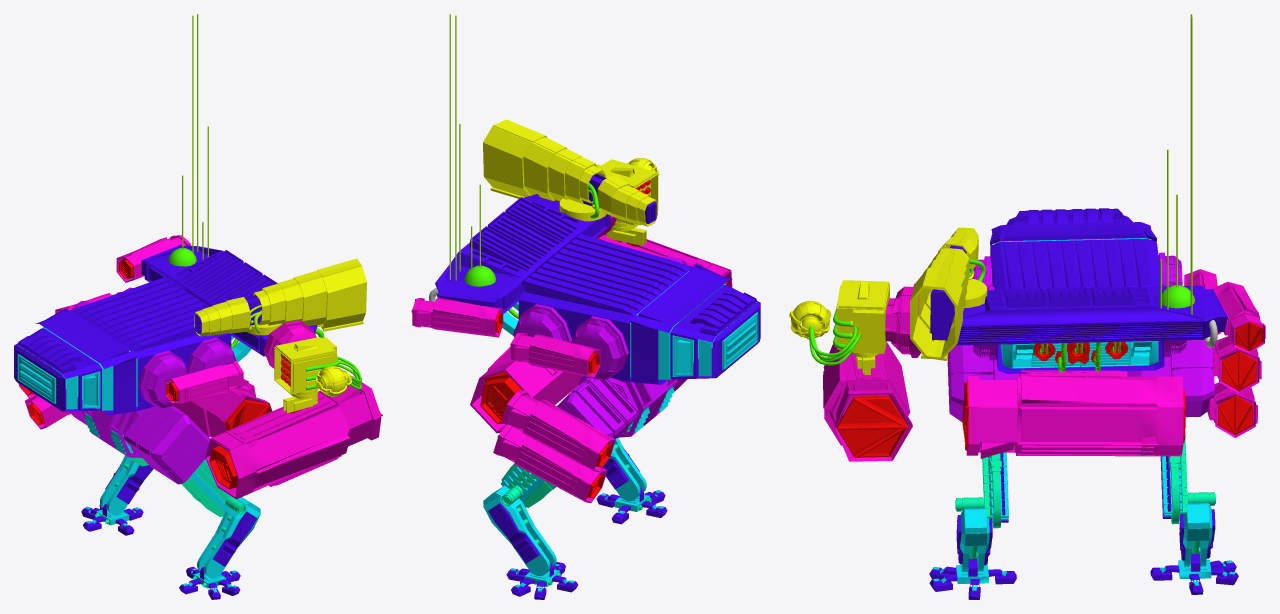
File: mecha patitas.fbx
3 views of the same model, side by side, from view 1: azimuth 30°, elevation 25°; view 2: azimuth 150°, elevation 25°; view 3: azimuth 270°, elevation 25° (orthographic). The views are drawn at different scales.
Parts seen in each view (by area): view 1: G_ParteTrasera001; view 2: G_ParteTrasera001; view 3: G_ParteTrasera001.
Boxes of the visible parts, x1,y1,x2,y2 form: G_ParteTrasera001: [14, 14, 382, 599]; G_ParteTrasera001: [411, 14, 760, 599]; G_ParteTrasera001: [789, 14, 1265, 599].
Bounding box in the file's own units: 10.28 × 12.17 × 17.26.
